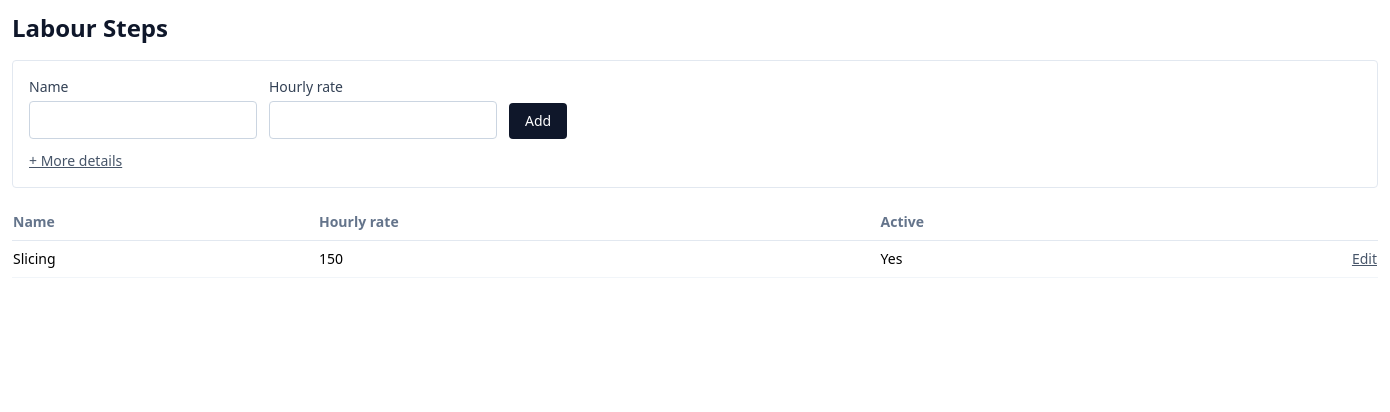
Test: LabourStepsListPage — edit in place › clicking Edit shows that row pre-filled with its current values
Check: the text "Slicing" is shown, box x1=12 y1=240 x2=318 y2=278
Click the button "Edit".
click(1364, 259)  # box x1=1352 y1=249 x2=1377 y2=269
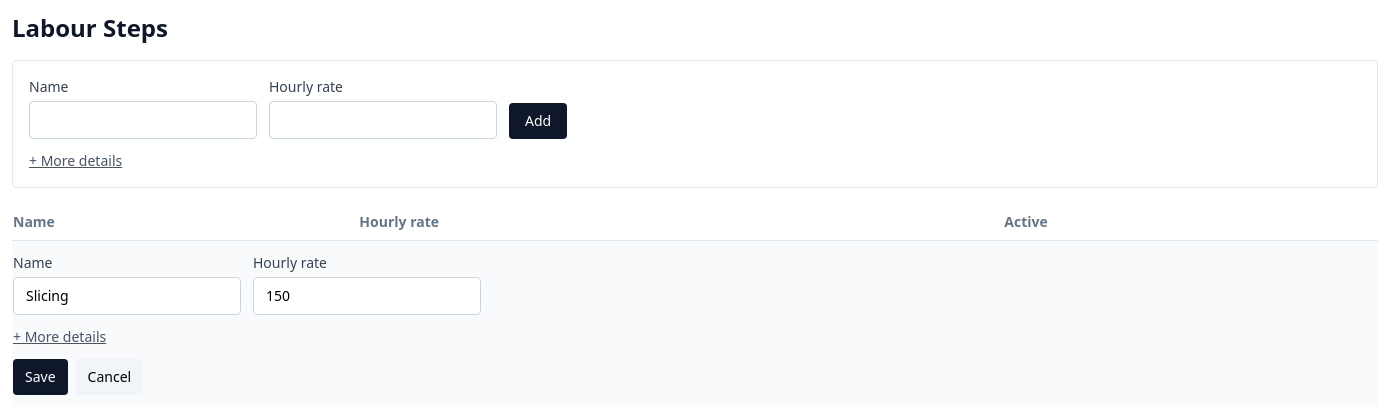
Check: the 2nd field labelled "Name" holds "Slicing", box x1=13 y1=277 x2=241 y2=315
Check: the 2nd number field labelled "Hourly rate" holds "150", box x1=253 y1=277 x2=481 y2=315
